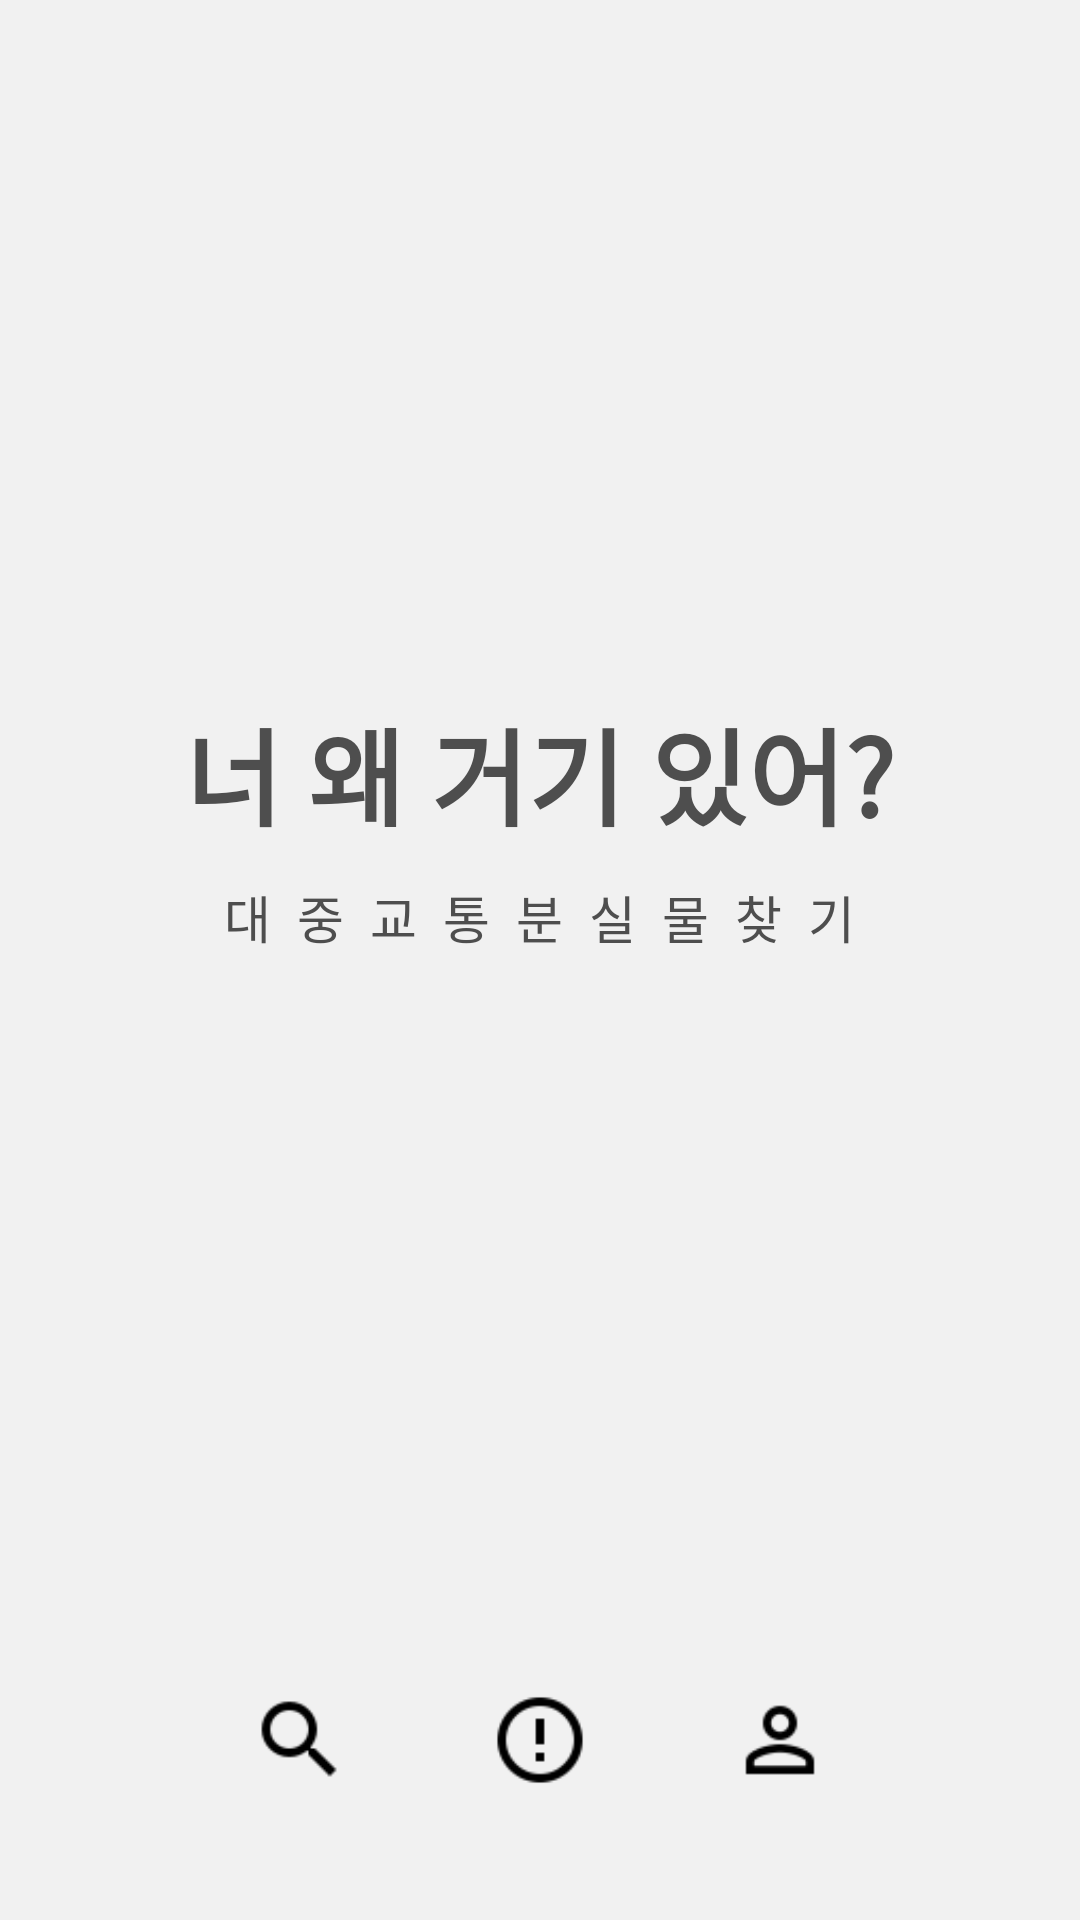

Icons on this 1080×1920 Android screen, each with the point to tap as [x,y]:
search: [299,1739]
